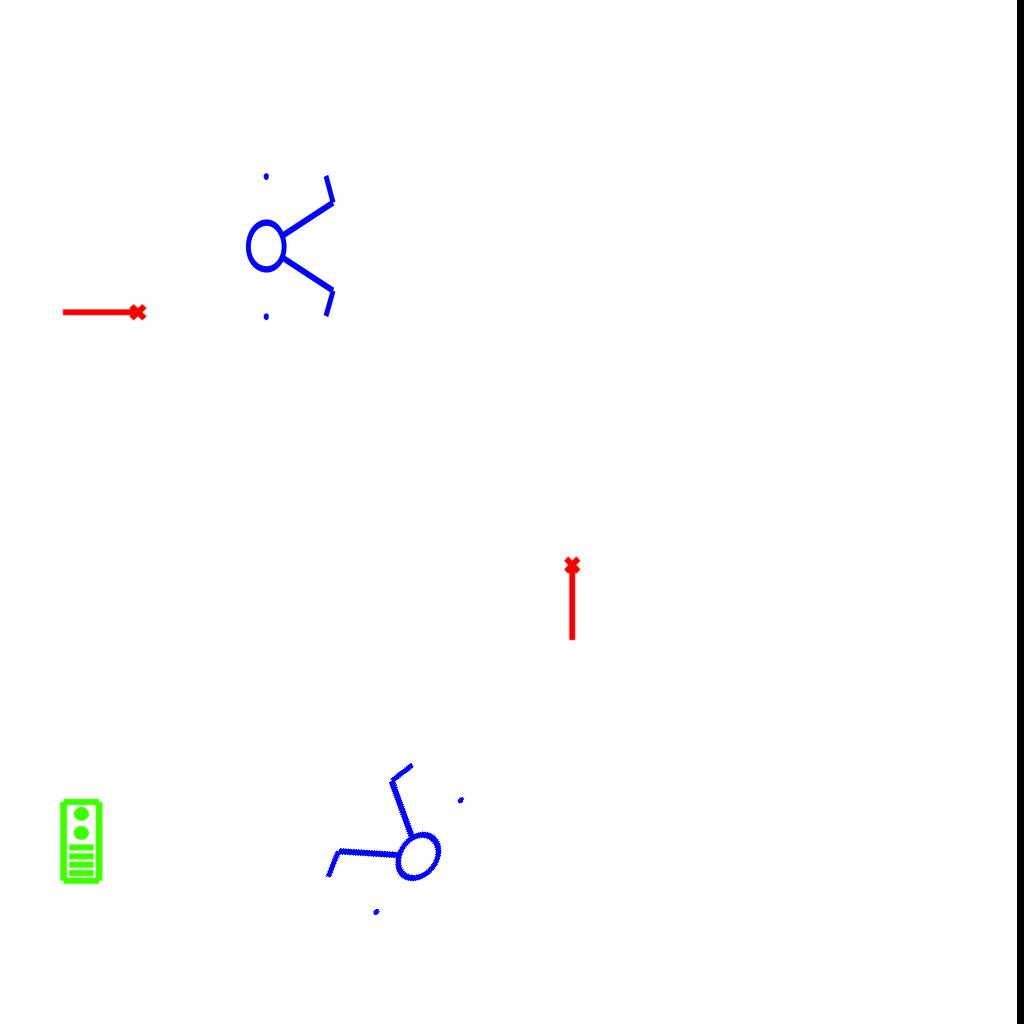ASR_Ansaugoeffnung: (60, 302, 148, 325), (562, 555, 585, 643)
Gegensprechanlage_mit_Video: (57, 797, 104, 885)
Serienschalter: (308, 746, 486, 938), (244, 161, 340, 329)
